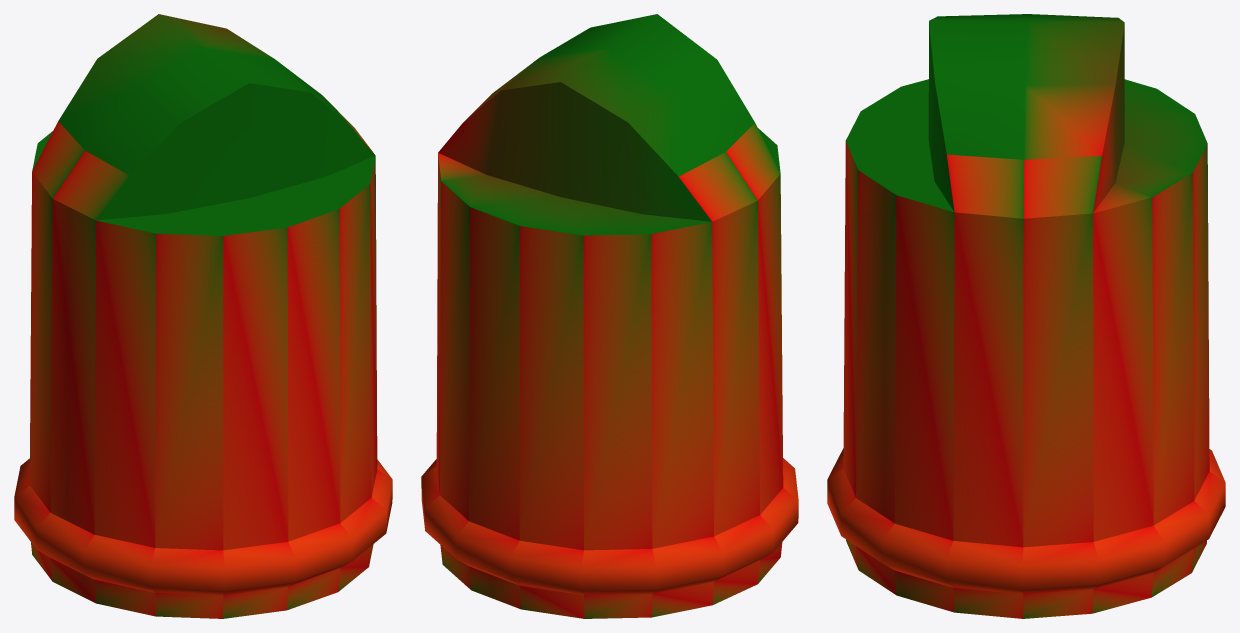
File: WinchArm.fbx
3 renders of one model, left to right at view 1: azimuth 30°, elevation 25°; view 2: azimuth 150°, elevation 25°; view 3: azimuth 270°, elevation 25°, orthographic. The views are drawn at different scales.
Parts seen in each view (by area): view 1: SM_Arm_MainFrame; view 2: SM_Arm_MainFrame; view 3: SM_Arm_MainFrame.
Boxes of the visible parts, x1,y1,x2,y2 form: SM_Arm_MainFrame: (14,14,392,618); SM_Arm_MainFrame: (421,14,798,618); SM_Arm_MainFrame: (827,14,1225,618).
Size of the model in its own units: 0.126 by 0.1819 by 0.126.
